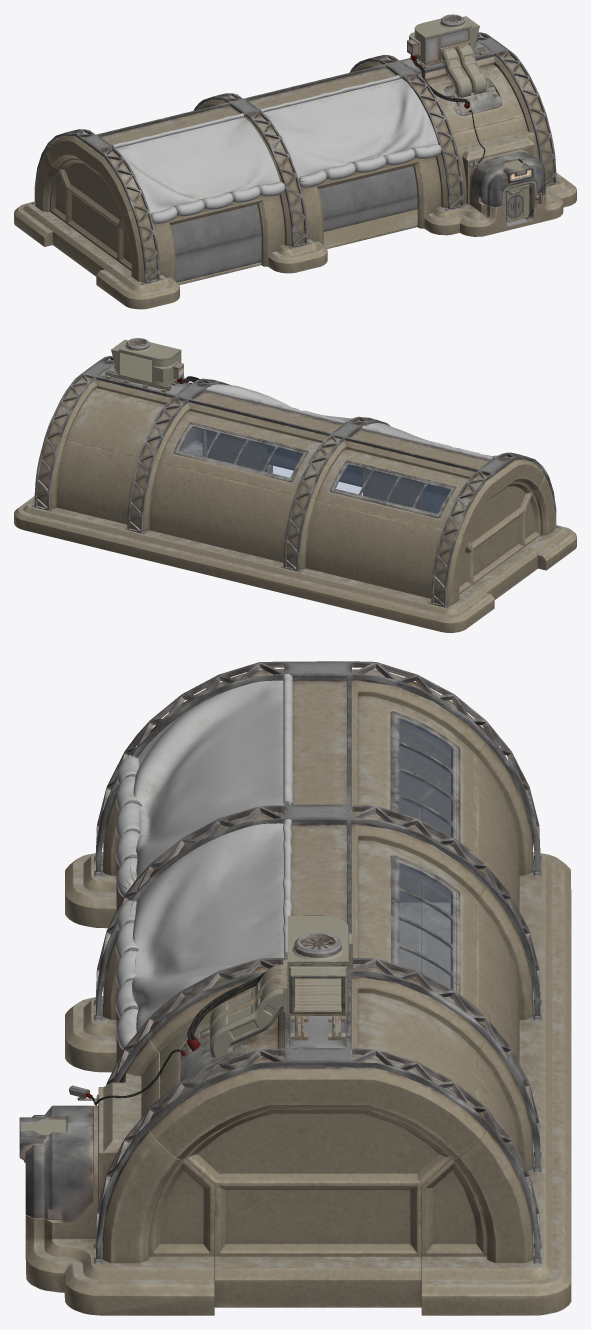
The model's file is desert-planet-bunker-garage.glb.
3 views of the same model, one above another, from view 1: azimuth 30°, elevation 25°; view 2: azimuth 150°, elevation 25°; view 3: azimuth 270°, elevation 25° (orthographic). The views are drawn at different scales.
Parts seen in each view (by area): view 1: Building, Building.Slice.012, Cloth.002, Cloth.001, Reinformcement, GarageDoor, Building.Slice.010, AirConditioner, ClothBundle.002, ClothBundle.001, Airducts, Building.Slice.001 (+2 smaller); view 2: Building, Building.Slice.012, Reinformcement, Windows, WindowBorder, AirConditioner, GarageDoor, Cloth.002, Cloth.001; view 3: Building.Slice.012, Building, Reinformcement, Cloth.002, Cloth.001, Windows, AirConditioner, Building.Slice.010, WindowBorder, Airducts, ClothBundle.001, ClothBundle.002 (+2 smaller).
Part boxes in pixels (<box>): Building: <box>14,110,576,309</box>; Building.Slice.012: <box>46,36,541,276</box>; Cloth.002: <box>259,75,437,178</box>; Cloth.001: <box>112,113,279,213</box>; Reinformcement: <box>34,32,556,283</box>; GarageDoor: <box>171,166,417,282</box>; Building.Slice.010: <box>471,151,545,207</box>; AirConditioner: <box>407,14,485,68</box>; ClothBundle.002: <box>298,144,441,187</box>; ClothBundle.001: <box>150,181,285,224</box>; Airducts: <box>441,43,486,98</box>; Building.Slice.001: <box>444,78,502,115</box>; Building: <box>14,427,576,632</box>; Building.Slice.012: <box>49,359,544,599</box>; Reinformcement: <box>34,356,556,606</box>; Windows: <box>179,427,450,513</box>; WindowBorder: <box>173,422,456,518</box>; AirConditioner: <box>105,338,183,392</box>; GarageDoor: <box>260,444,450,513</box>; Cloth.002: <box>205,384,359,424</box>; Cloth.001: <box>361,423,507,460</box>; Building.Slice.012: <box>150,668,485,1307</box>; Building: <box>25,733,571,1315</box>; Reinformcement: <box>95,661,540,1259</box>; Cloth.002: <box>131,819,292,1031</box>; Cloth.001: <box>133,674,293,877</box>; Windows: <box>399,719,451,997</box>; AirConditioner: <box>283,915,352,1040</box>; Building.Slice.010: <box>19,1105,93,1222</box>; WindowBorder: <box>390,711,460,998</box>; Airducts: <box>209,964,283,1060</box>; ClothBundle.001: <box>115,756,140,900</box>; ClothBundle.002: <box>115,900,138,1053</box>.
Bounding box in the file's own units: 3343 × 1092 × 1773.
6 materials, 6 textured.
